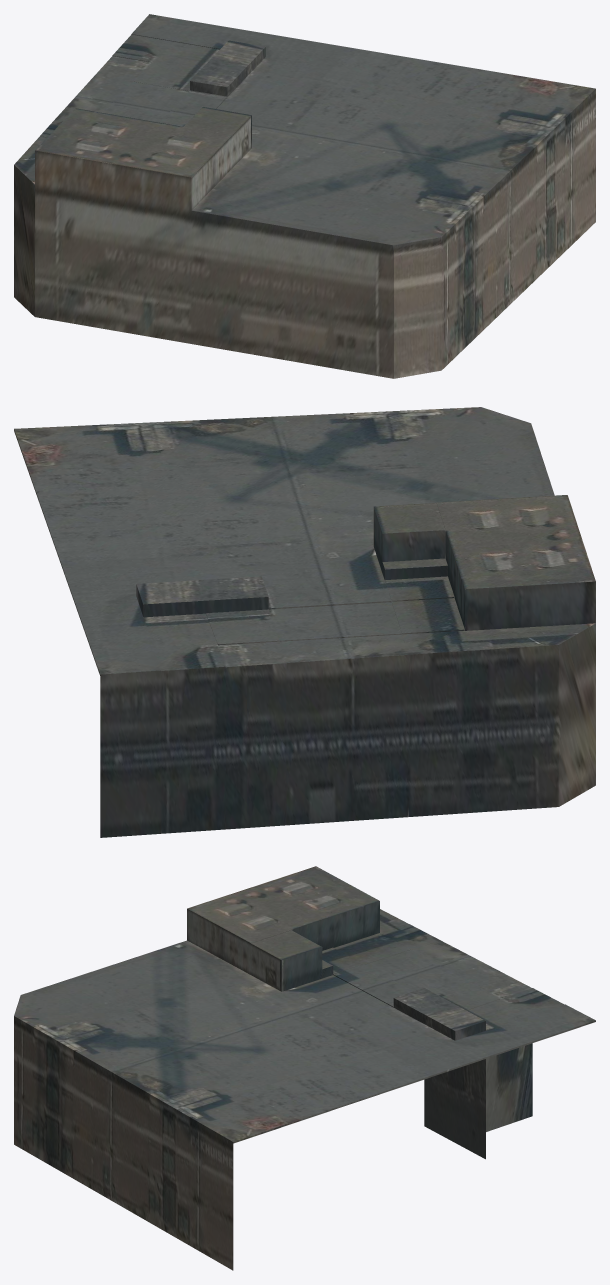
The model's file is {2D62DDBD-F87B-48CC-9ABF-95C68498EDDC}.gltf.
3 views of the same model, one above another, from view 1: azimuth 30°, elevation 25°; view 2: azimuth 150°, elevation 25°; view 3: azimuth 270°, elevation 25° (orthographic). The views are drawn at different scales.
Visible parts, largest first — view 1: Z_UP; view 2: Z_UP; view 3: Z_UP.
Part boxes in pixels (<box>): Z_UP: <box>14,14,595,378</box>; Z_UP: <box>14,407,595,837</box>; Z_UP: <box>14,866,595,1270</box>.
Size of the model in its own units: 58.67 by 18.01 by 59.15.
Materials: 10 (9 with a texture image).
